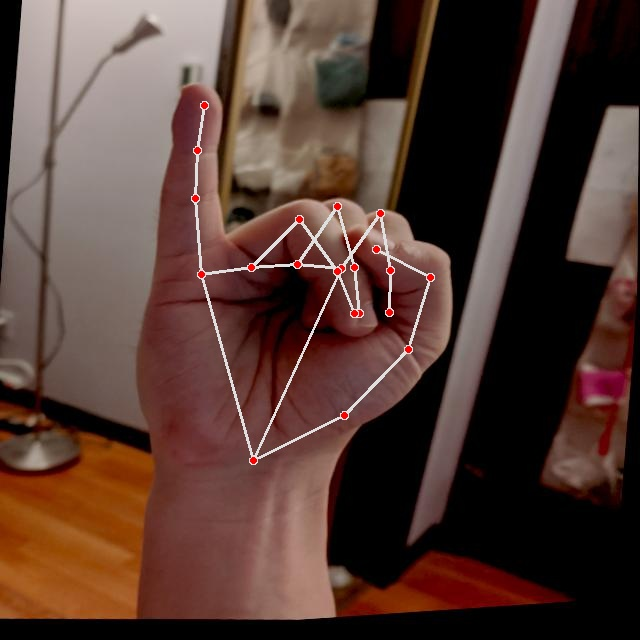I: (121, 57, 483, 506)
